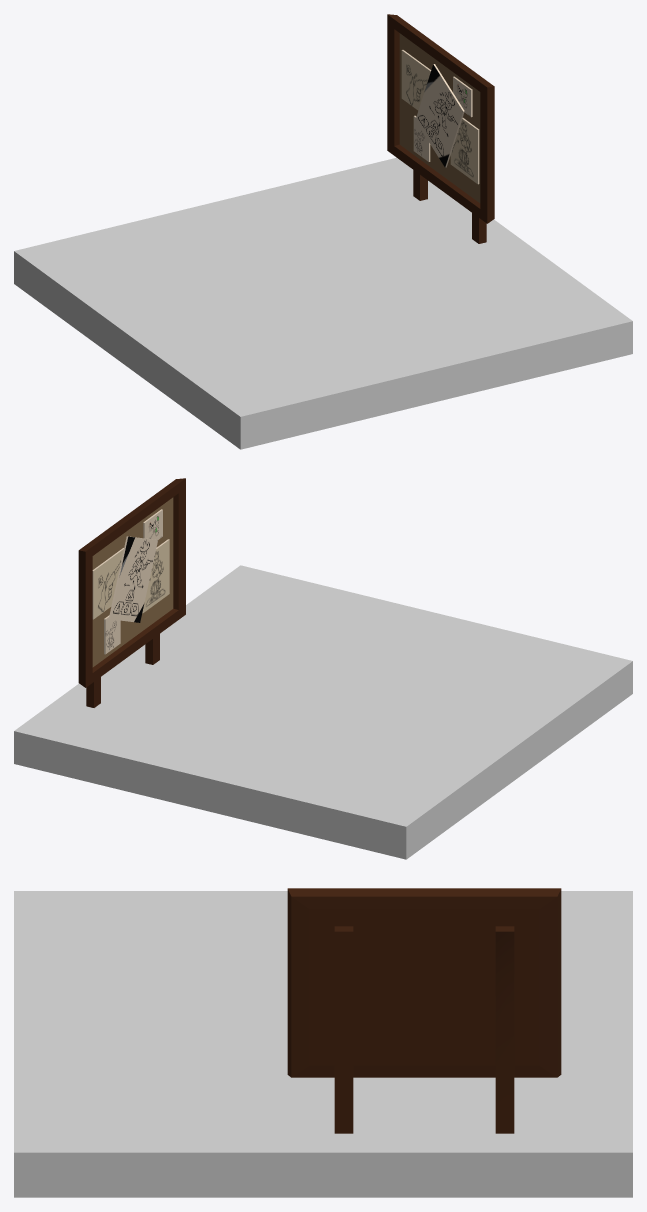
File: spawntile.fbx
3 views of the same model, one above another, from view 1: azimuth 30°, elevation 25°; view 2: azimuth 150°, elevation 25°; view 3: azimuth 270°, elevation 25° (orthographic). The views are drawn at different scales.
Parts seen in each view (by area): view 1: Cube, Cube.008; view 2: Cube, Cube.008; view 3: Cube, Cube.008.
Boxes of the visible parts, x1,y1,x2,y2 form: Cube: (14,157,632,449); Cube.008: (387,14,494,243); Cube: (14,565,632,859); Cube.008: (78,478,185,707); Cube: (14,891,632,1197); Cube.008: (287,888,561,1133).
Size of the model in its own units: 500 by 249 by 500.
Materials: 2 (1 with a texture image).
